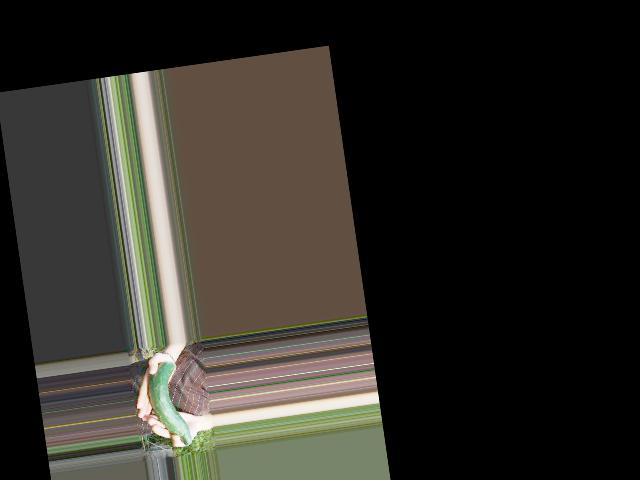cucumber: (144, 359, 192, 449)
